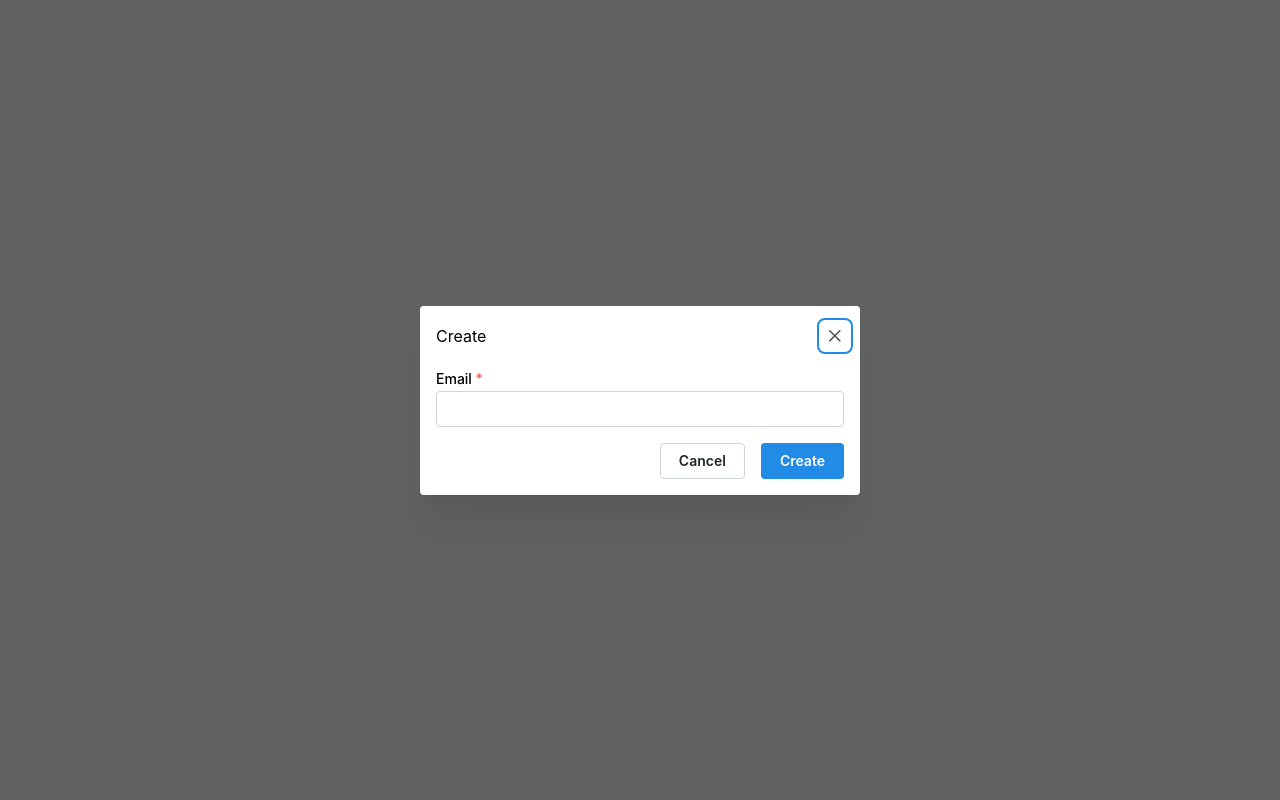
CommandModal › form: a non-field ('') server error surfaces as a form-level alert (not silently dropped)
Type "a@b.com" into the field labelled "Email" at [640, 408], box left=436, top=390, right=844, bottom=426
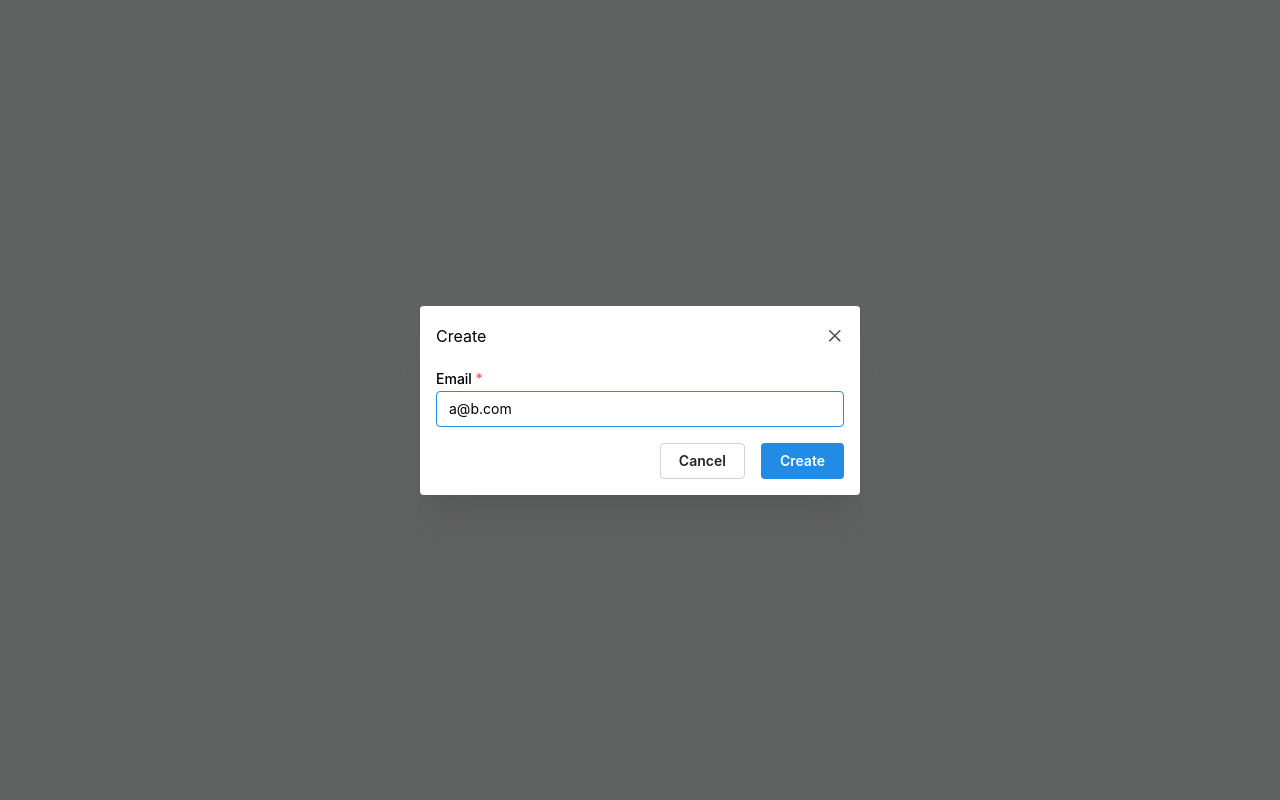
Click the button "Create" at [802, 460], box left=761, top=442, right=844, bottom=478
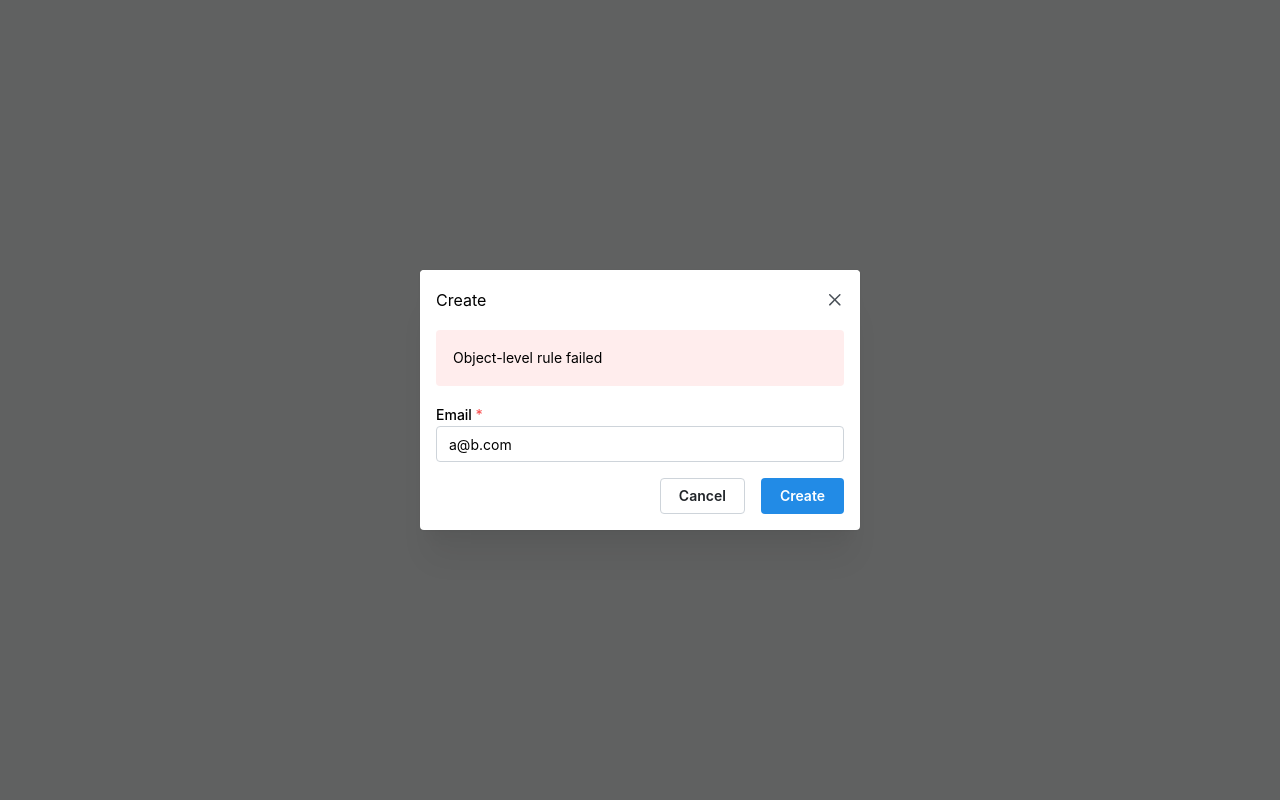
Expected: the text "Object-level rule failed" is shown, left=453, top=349, right=602, bottom=366
